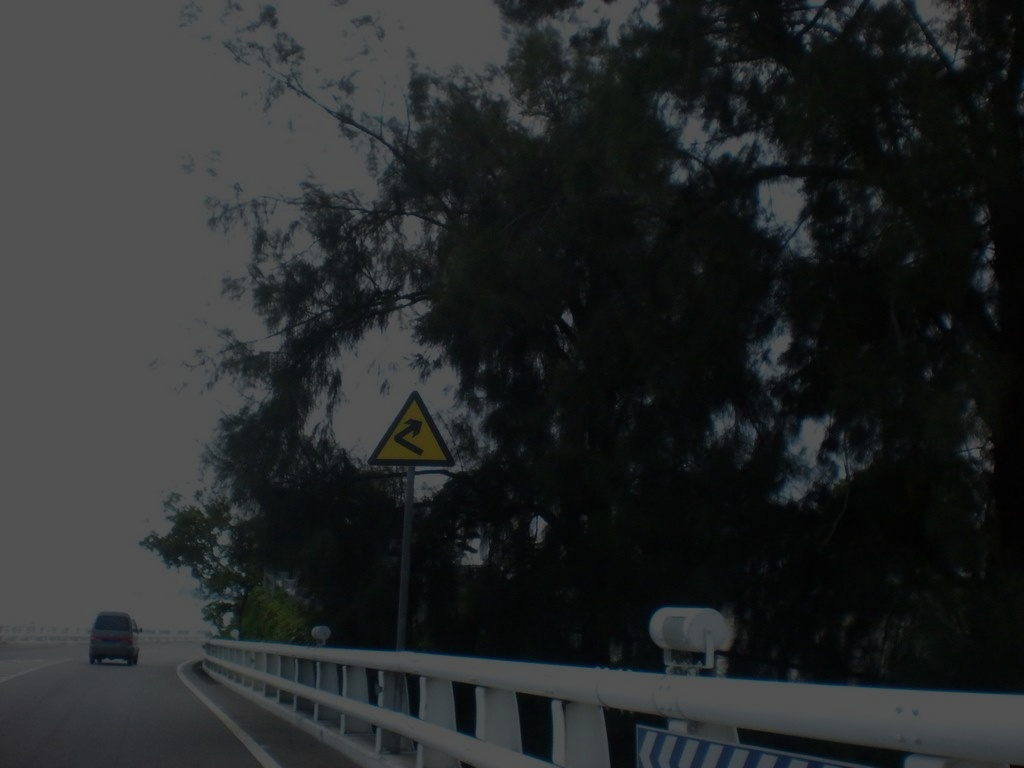Warning Signs: (367, 389, 456, 468)
